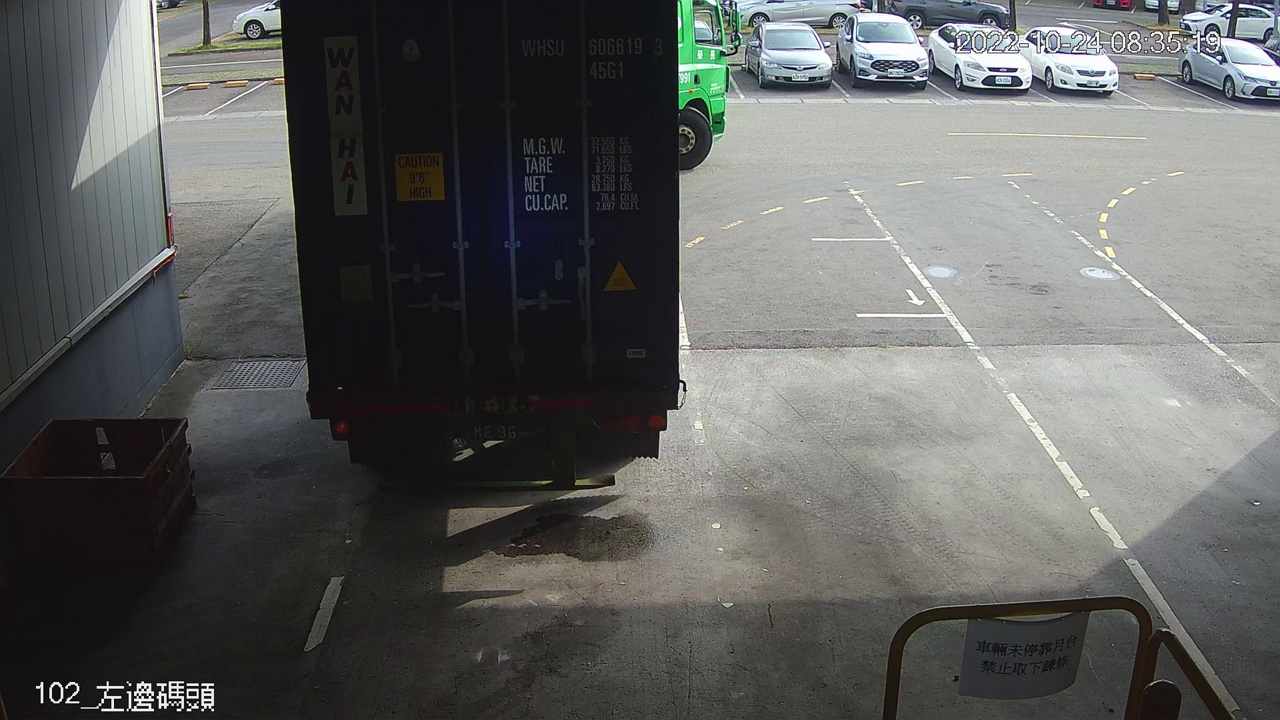container: (512, 27, 673, 89)
